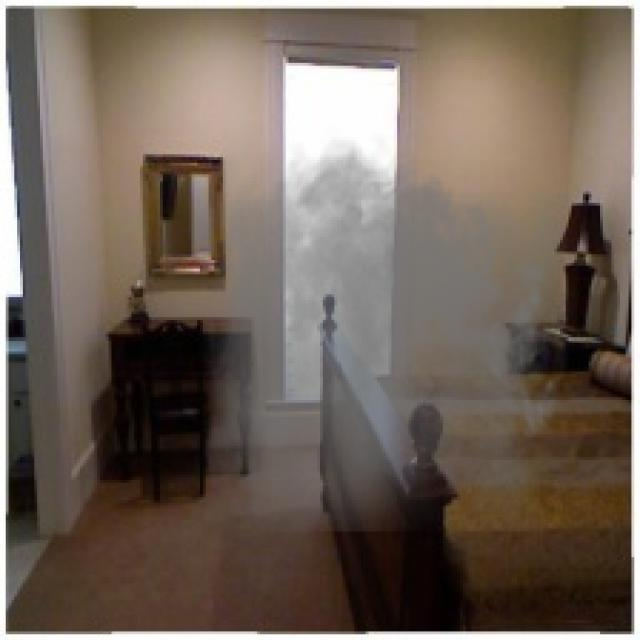Smoke: (202, 126, 568, 532)
